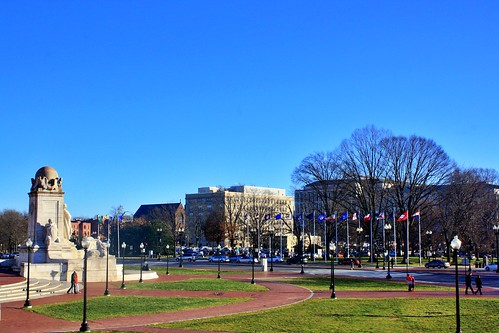building: (17, 171, 129, 285), (296, 180, 433, 243), (195, 183, 296, 258), (133, 194, 183, 229), (67, 212, 98, 240)
grass: (267, 298, 499, 333), (288, 274, 440, 292)
sky: (16, 1, 499, 186)
tree: (374, 139, 451, 250), (330, 129, 400, 251), (292, 153, 358, 254), (446, 172, 499, 256)
